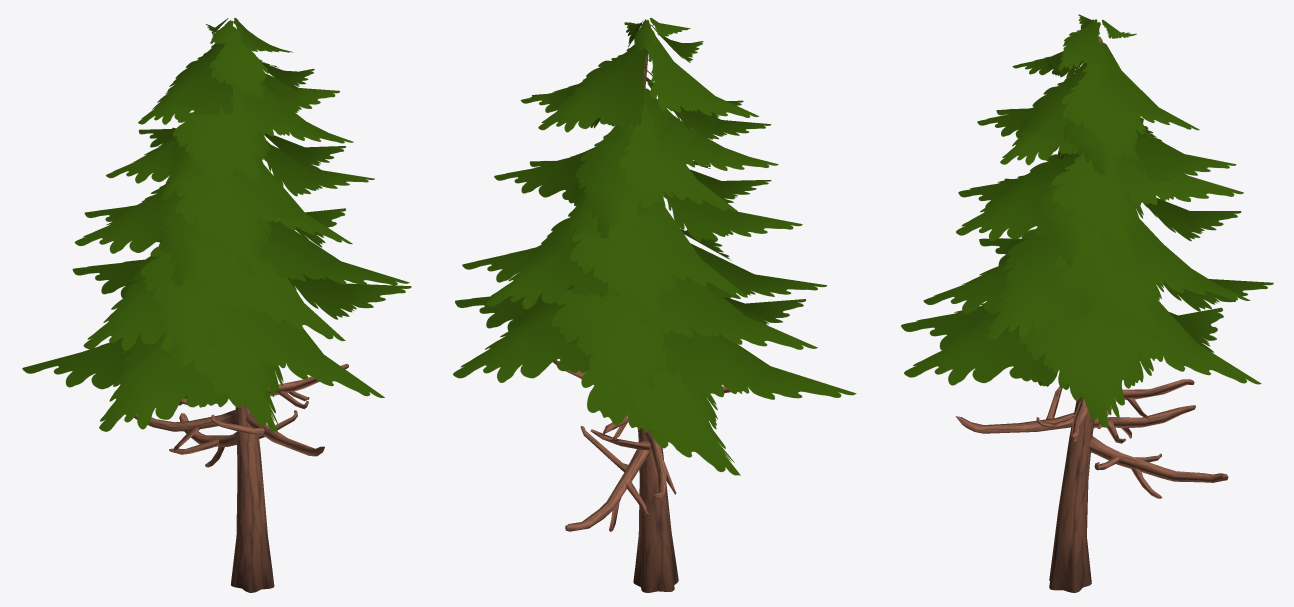
File: pine-5.glb
The picture shows the model from 3 angles, left to right: view 1: azimuth 30°, elevation 25°; view 2: azimuth 150°, elevation 25°; view 3: azimuth 270°, elevation 25°; orthographic projection. The views are drawn at different scales.
Visible parts, largest first — view 1: Pine_1; view 2: Pine_1; view 3: Pine_1.
Boxes of the visible parts, bbox=[...] form: Pine_1: bbox=[22, 18, 411, 592]; Pine_1: bbox=[453, 18, 856, 592]; Pine_1: bbox=[901, 14, 1273, 592].
Size of the model in its own units: 4.94 by 7.32 by 4.54.
Materials: 2 (2 with a texture image).
